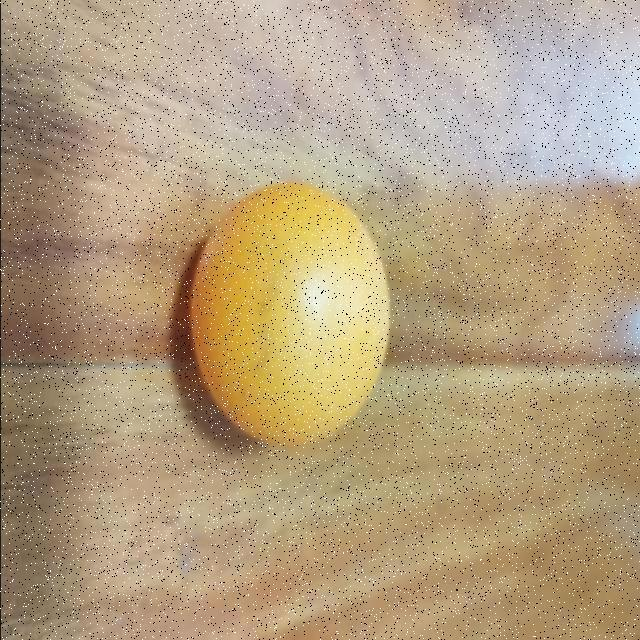ping-pong-ball: (191, 183, 389, 445)
